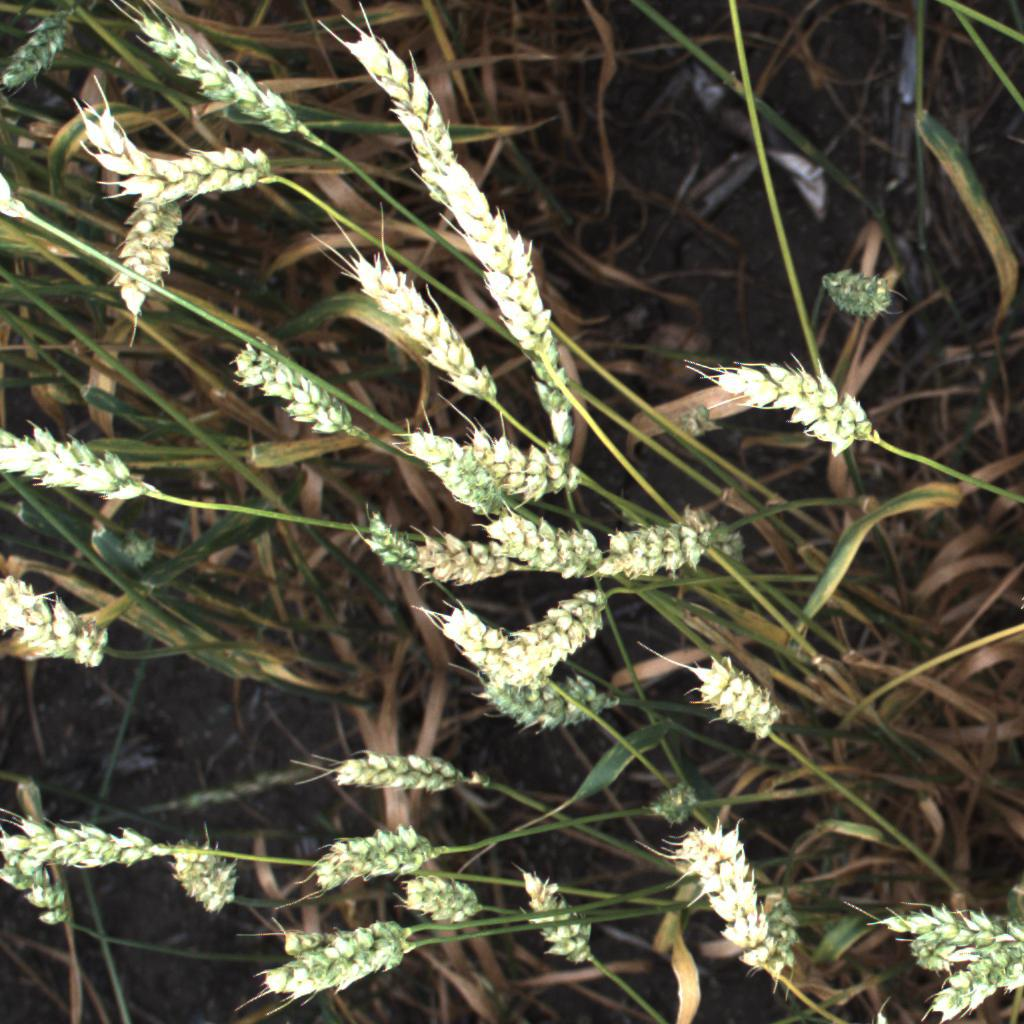0-0: (411, 128, 563, 357), (334, 8, 484, 218), (330, 249, 507, 409), (111, 3, 311, 143), (694, 335, 895, 466), (662, 809, 806, 989), (72, 106, 270, 204), (407, 590, 572, 704), (218, 333, 365, 443), (0, 410, 156, 513), (101, 171, 196, 327), (247, 922, 423, 1005), (480, 582, 621, 683), (586, 501, 743, 591), (0, 810, 182, 884), (1, 564, 118, 678), (391, 412, 516, 518), (877, 889, 1024, 978), (679, 648, 796, 753), (299, 817, 453, 896), (464, 668, 632, 740), (508, 862, 615, 975), (318, 734, 486, 804), (467, 501, 607, 582), (469, 424, 586, 502), (0, 0, 88, 103), (348, 500, 450, 584), (264, 913, 429, 964), (515, 336, 588, 451), (408, 519, 526, 590), (0, 845, 88, 940), (808, 249, 904, 335), (160, 834, 258, 918), (396, 864, 488, 939)
